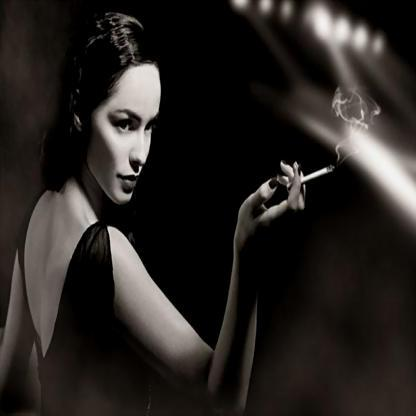cigarette: (300, 162, 334, 184)
person: (22, 13, 200, 414)
smoke: (330, 84, 383, 141)
